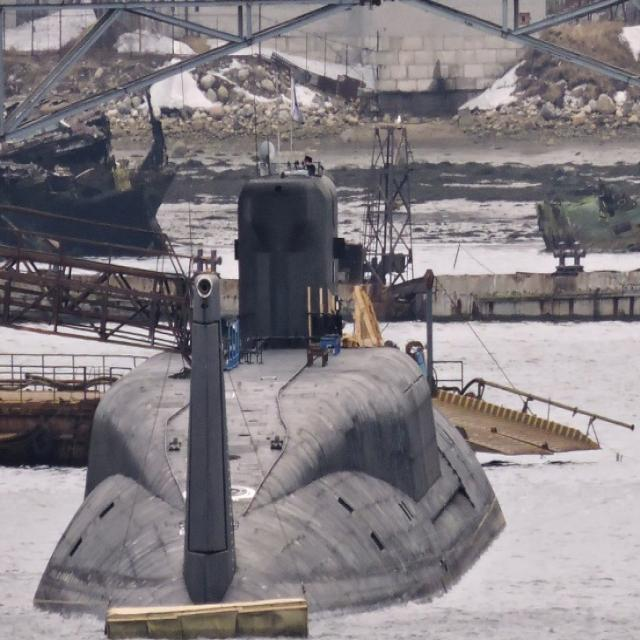submarine: (28, 156, 514, 608)
